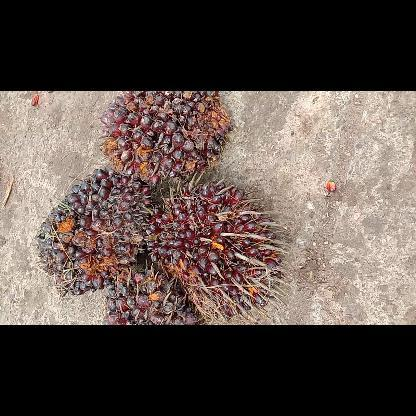Kurang masak: (143, 176, 285, 324), (34, 167, 156, 299), (97, 90, 233, 186), (102, 262, 208, 324)
